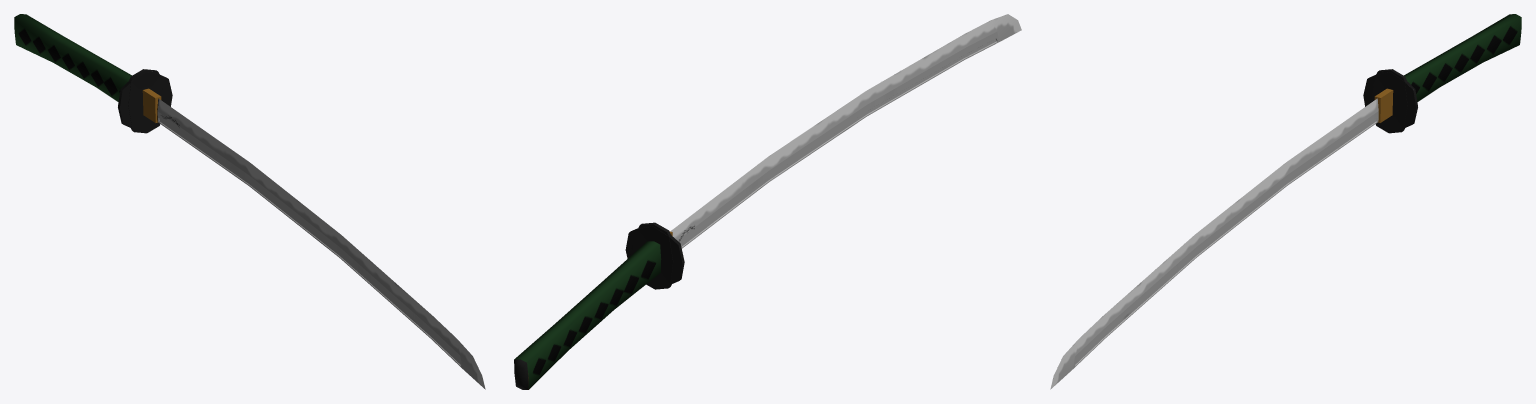
File: Katana_01.fbx
The picture shows the model from 3 angles, left to right: view 1: azimuth 30°, elevation 25°; view 2: azimuth 150°, elevation 25°; view 3: azimuth 330°, elevation 25°; orthographic projection. The views are drawn at different scales.
Visible parts, largest first — view 1: Katana_MK_IV; view 2: Katana_MK_IV; view 3: Katana_MK_IV.
Boxes of the visible parts, box(x1,y1,x2,y2) form: Katana_MK_IV: box(14, 14, 485, 389); Katana_MK_IV: box(514, 14, 1021, 389); Katana_MK_IV: box(1050, 14, 1521, 389).
Size of the model in its own units: 4.48 by 5.7 by 68.5.
Materials: 1 (1 with a texture image).
